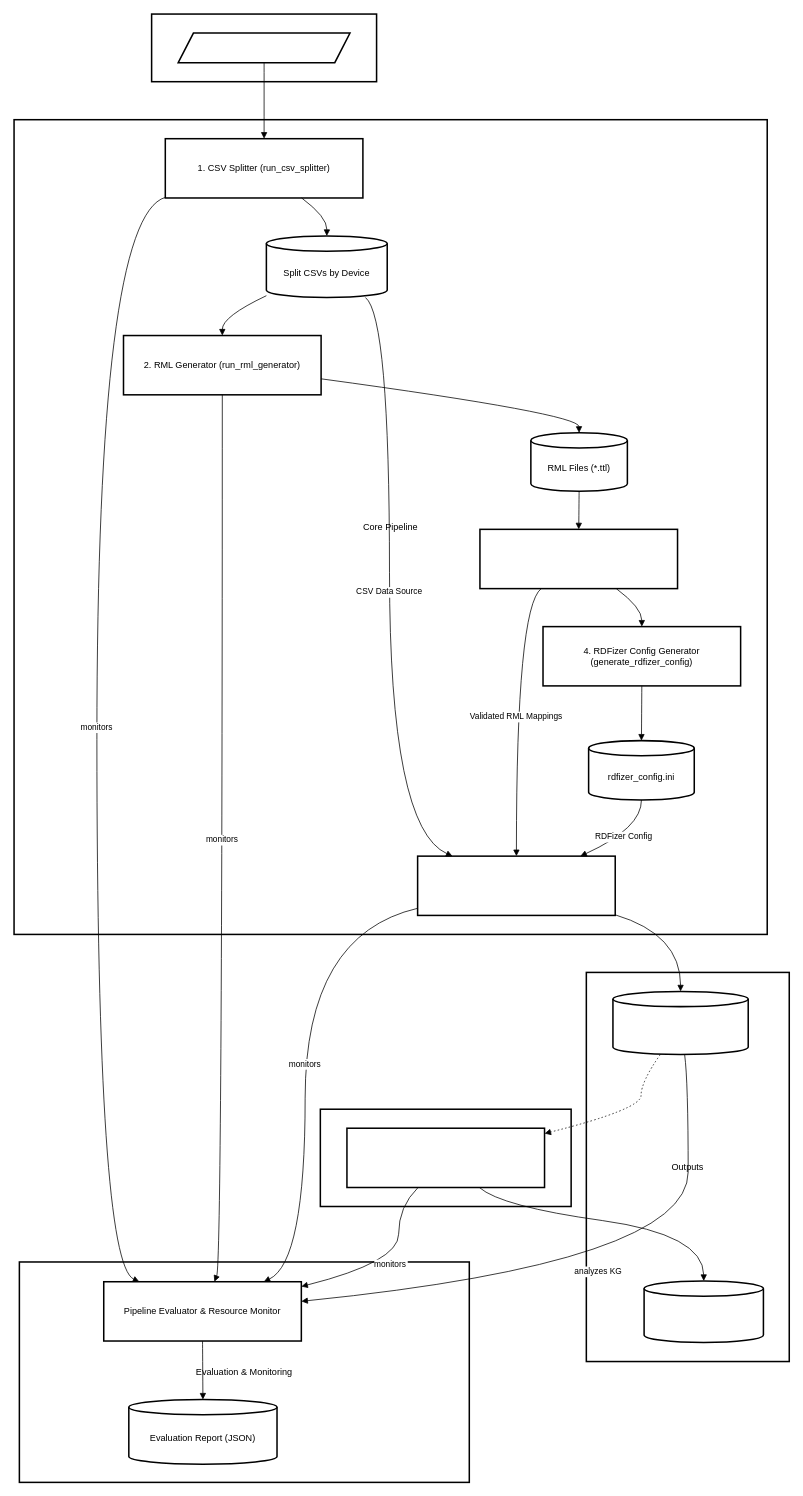
The diagram is 803 pixels wide and 1496 high, and some of its shapes have lost their labels. The centre of each missing label's shape, as x and y in pixels:
"3. Path Validation & Fixing (validate_rml_paths)" goes at point (578, 558).
"5. KG Generator (run_knowledge_graph_generation)" goes at point (516, 885).
"6. GraphDB Importer (import_to_graphdb)" goes at point (445, 1157).
"GraphDB Repository" goes at point (703, 1311).
"Knowledge Graph Files" goes at point (680, 1022).
"Large IEC61850 CSV File" goes at point (263, 47).
